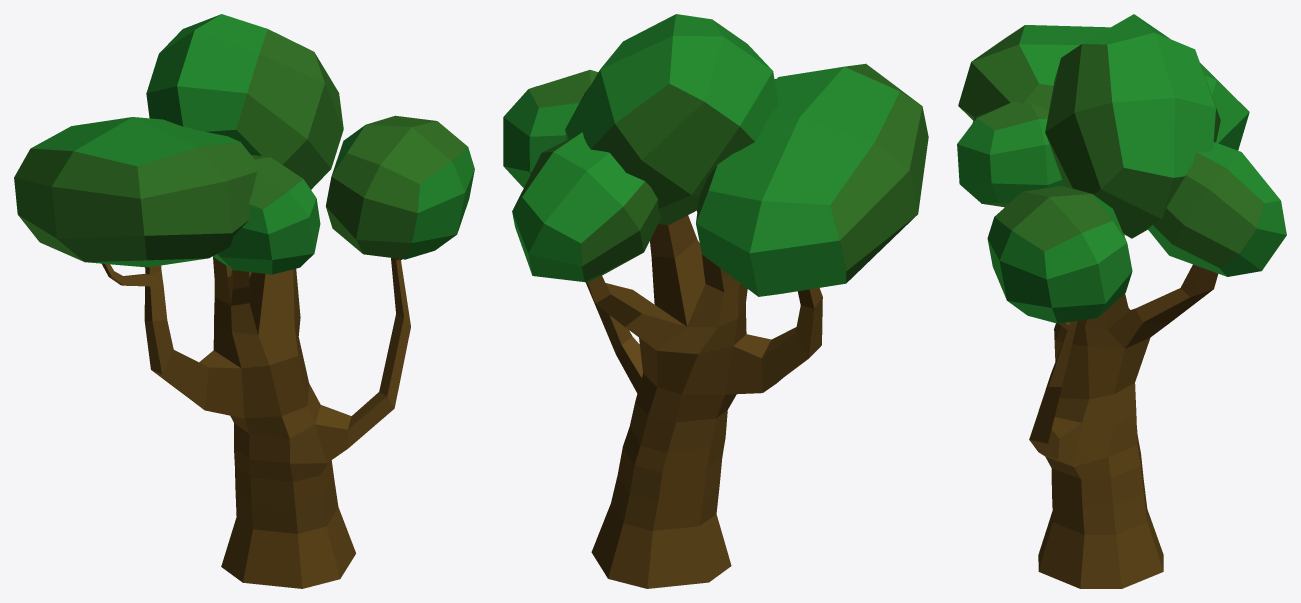
File: tree.fbx
The picture shows the model from 3 angles, left to right: view 1: azimuth 30°, elevation 25°; view 2: azimuth 150°, elevation 25°; view 3: azimuth 270°, elevation 25°; orthographic projection. The views are drawn at different scales.
Visible parts, largest first — view 1: tree; view 2: tree; view 3: tree.
Part boxes in pixels (x1,y1,x2,y2): tree: (14,14,474,588); tree: (503,14,928,588); tree: (957,14,1286,588).
Bounding box in the file's own units: 6.26 × 8.07 × 4.7.
